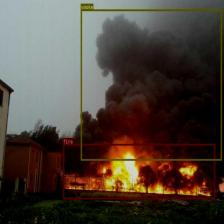fire: (63, 144, 215, 199)
smoke: (80, 9, 222, 160)
